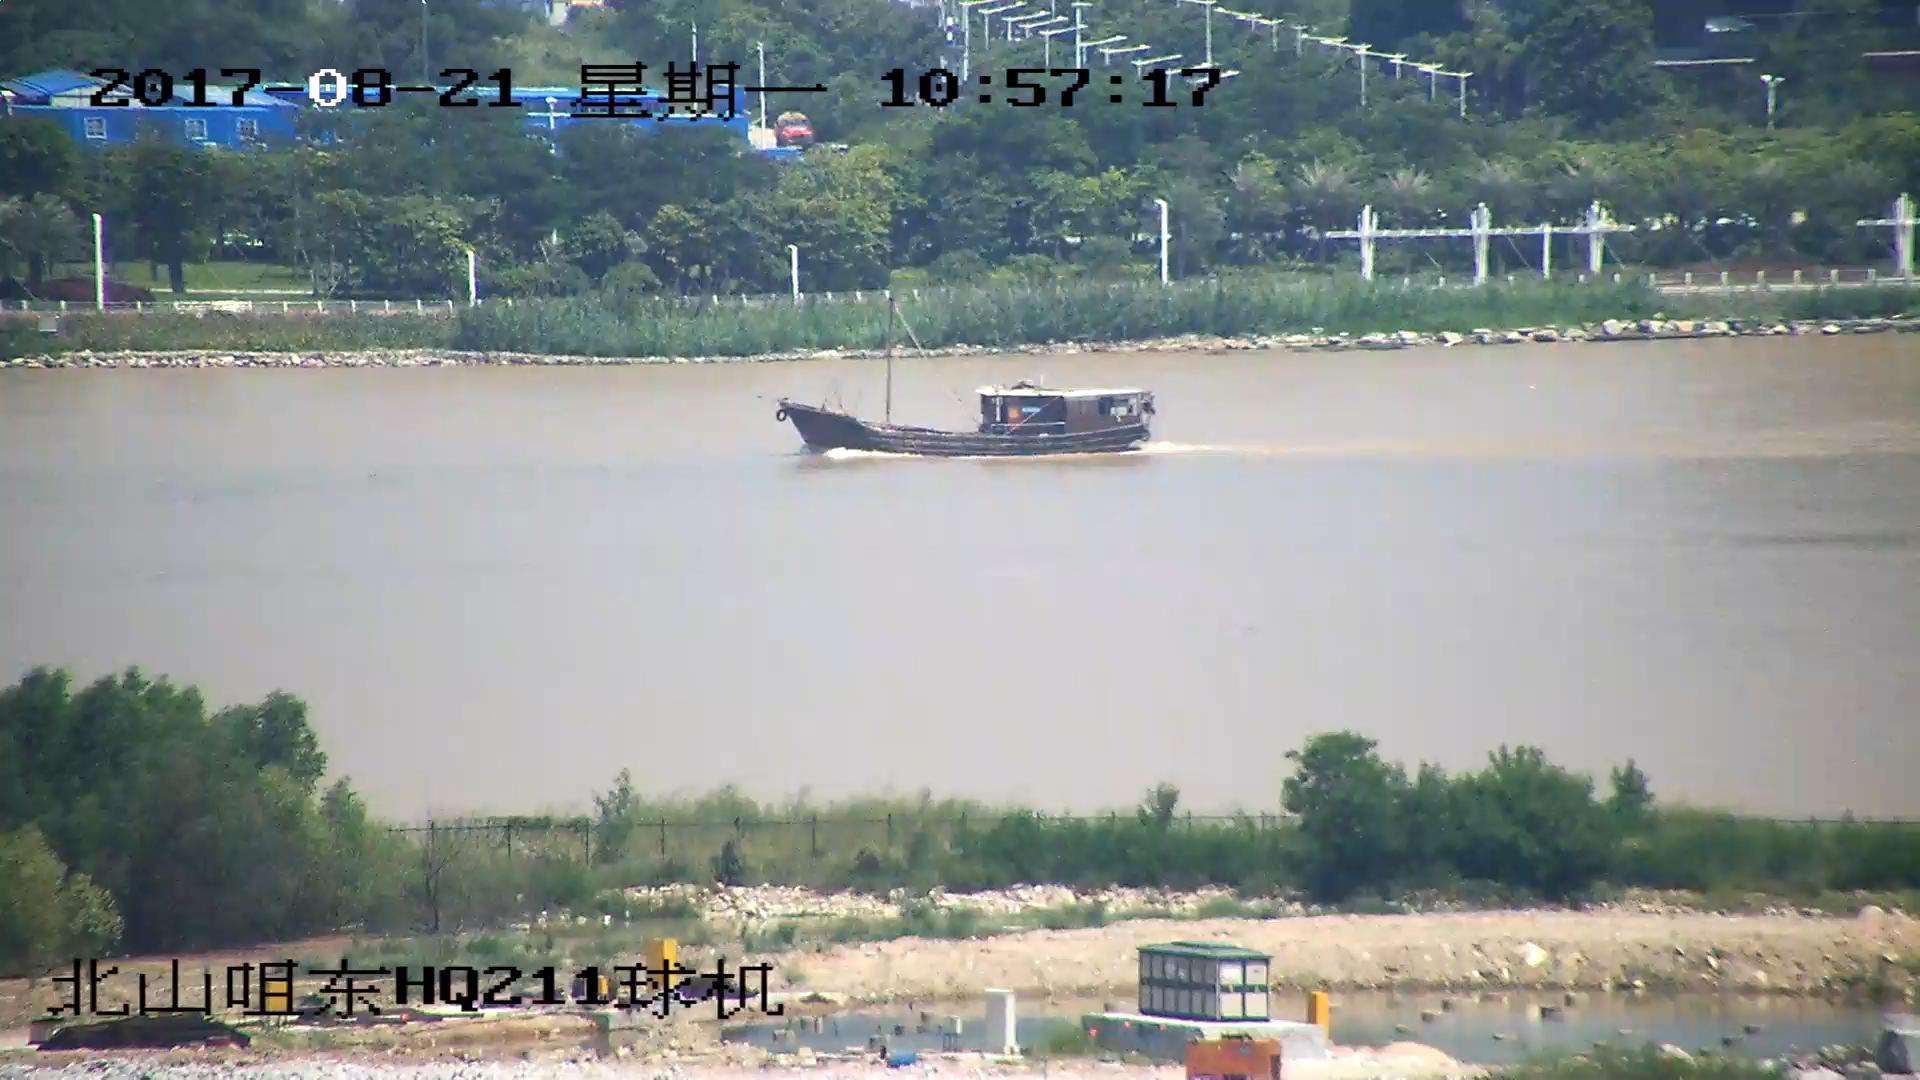fishing boat: (778, 303, 1154, 458)
